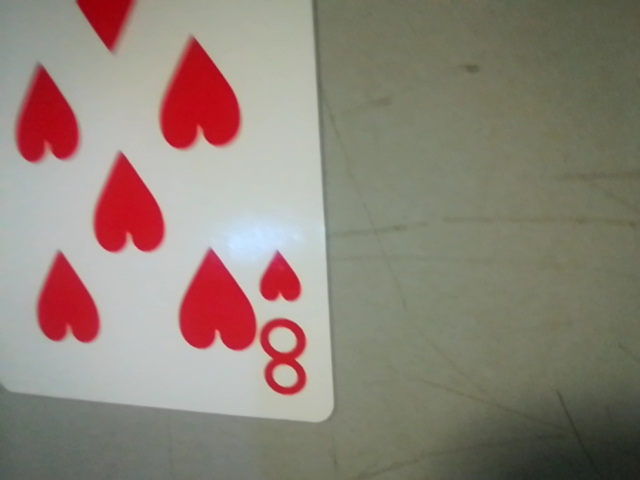hx 8: (250, 241, 325, 408)
